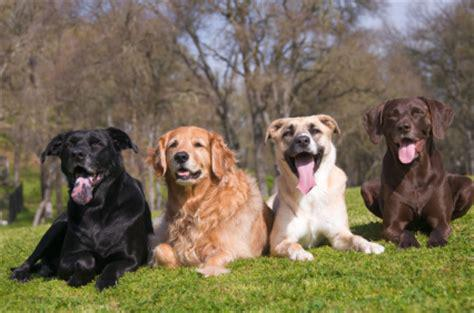dog: (15, 129, 151, 288), (143, 126, 267, 275), (264, 114, 383, 261), (360, 97, 474, 245)
